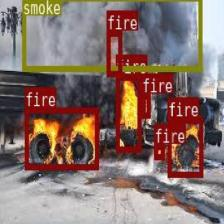fire: (24, 107, 98, 168), (167, 116, 203, 176), (115, 74, 140, 151), (106, 29, 121, 75), (140, 93, 150, 117), (154, 144, 164, 158)
smoke: (21, 0, 202, 71)
